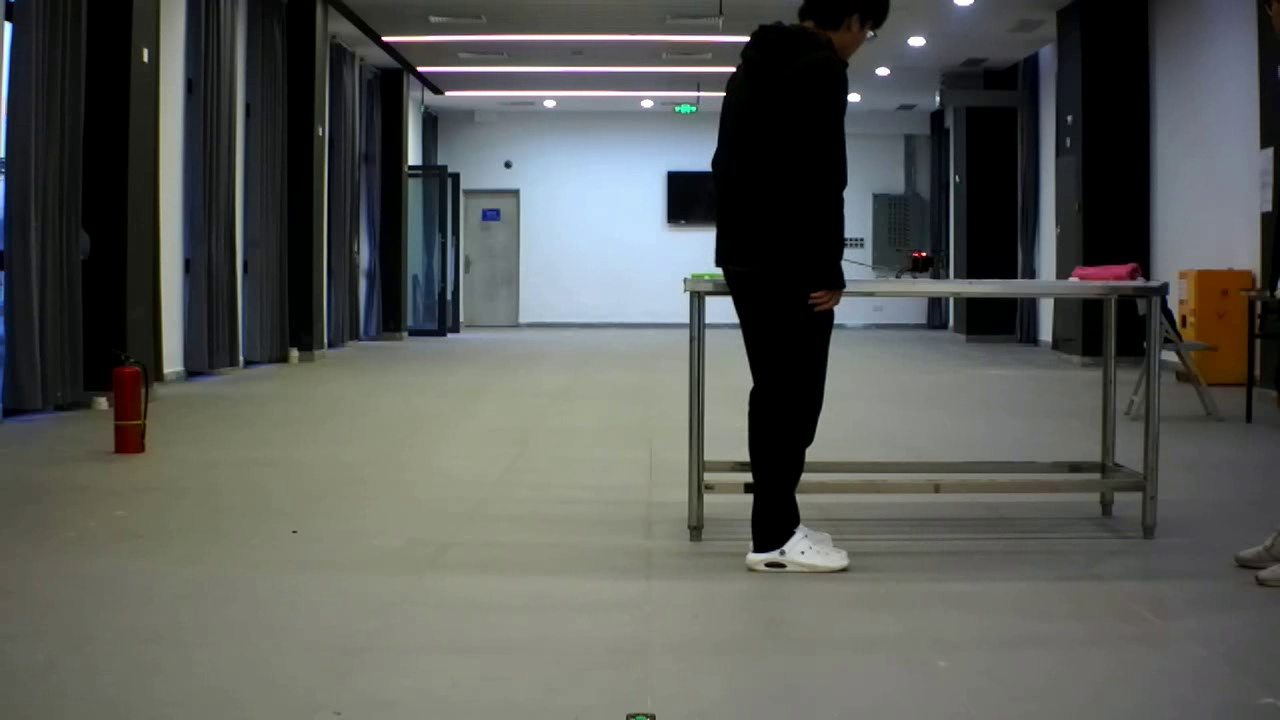Fire: (902, 237, 935, 263)
